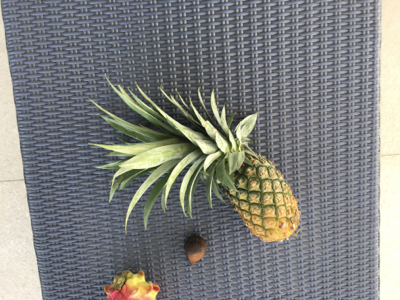pineapple: (95, 75, 299, 249)
snake fruit: (184, 235, 207, 266)
